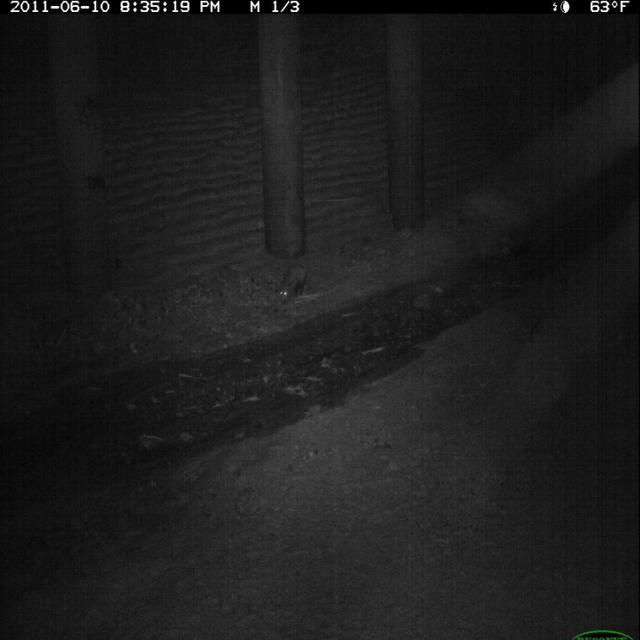opossum: (276, 260, 318, 307)
